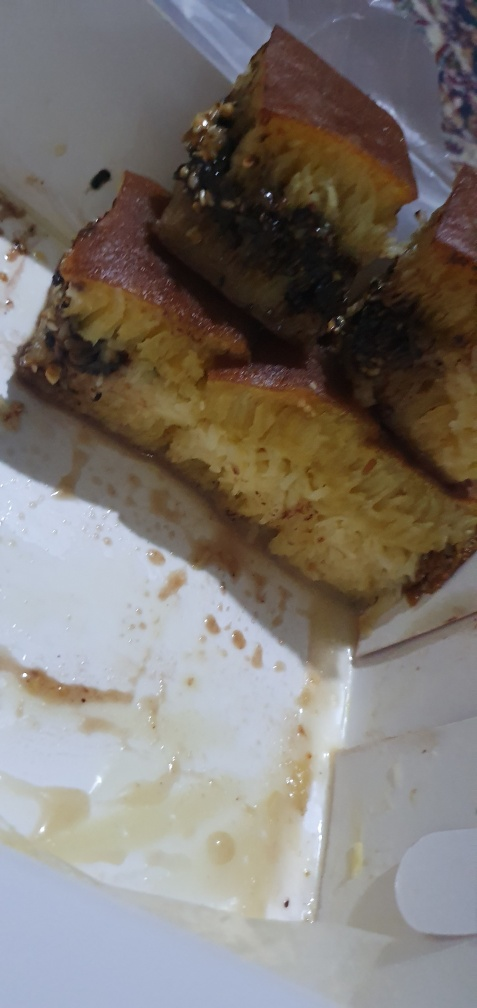martabak manis: (174, 7, 383, 333), (27, 191, 221, 450), (268, 428, 477, 641), (191, 343, 341, 522)
